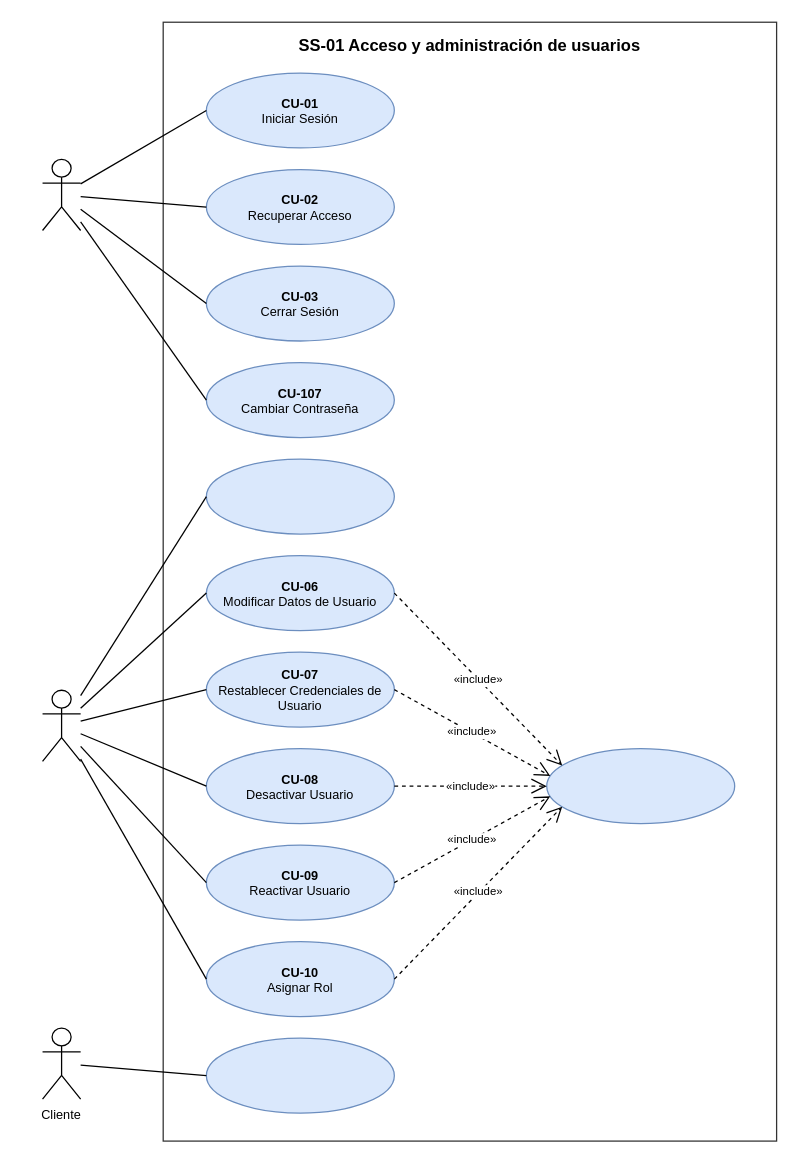
This 799x1163 diagram has some shape labels left out. The shapes that lost their labels are listed below. From the top down, each one's centre as x and y in pixels, then its label:
At [61,194]: "Usuario".
At [299,496]: "CU-05 Registrar Usuario Interno".
At [61,725]: "Administrador".
At [640,785]: "CU-53 Localizar Usuario Interno".
At [299,1075]: "CU-04 Activar o Rehabilitar Acceso del Cliente".
